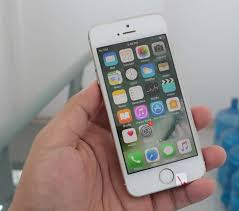iphone: (83, 11, 206, 202)
iphone5: (82, 9, 205, 200)
